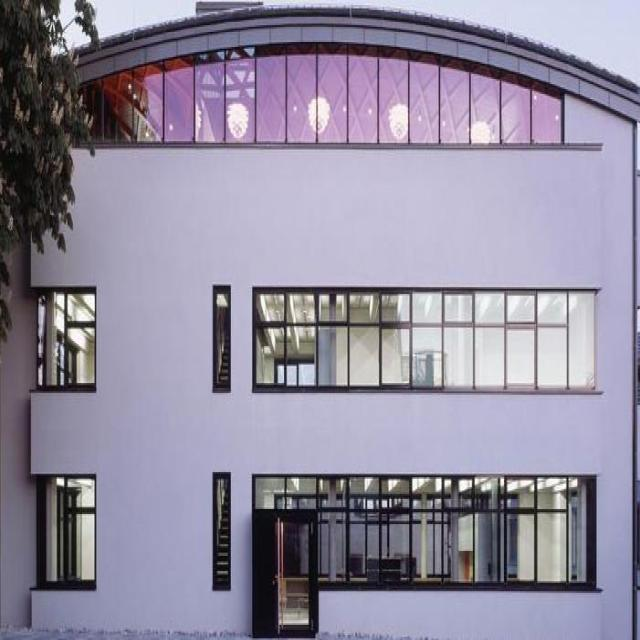door: (252, 512, 320, 640)
window: (92, 45, 563, 147), (252, 473, 598, 588), (254, 287, 598, 393), (38, 473, 98, 586), (36, 293, 96, 389), (213, 472, 231, 593), (212, 287, 230, 397)
